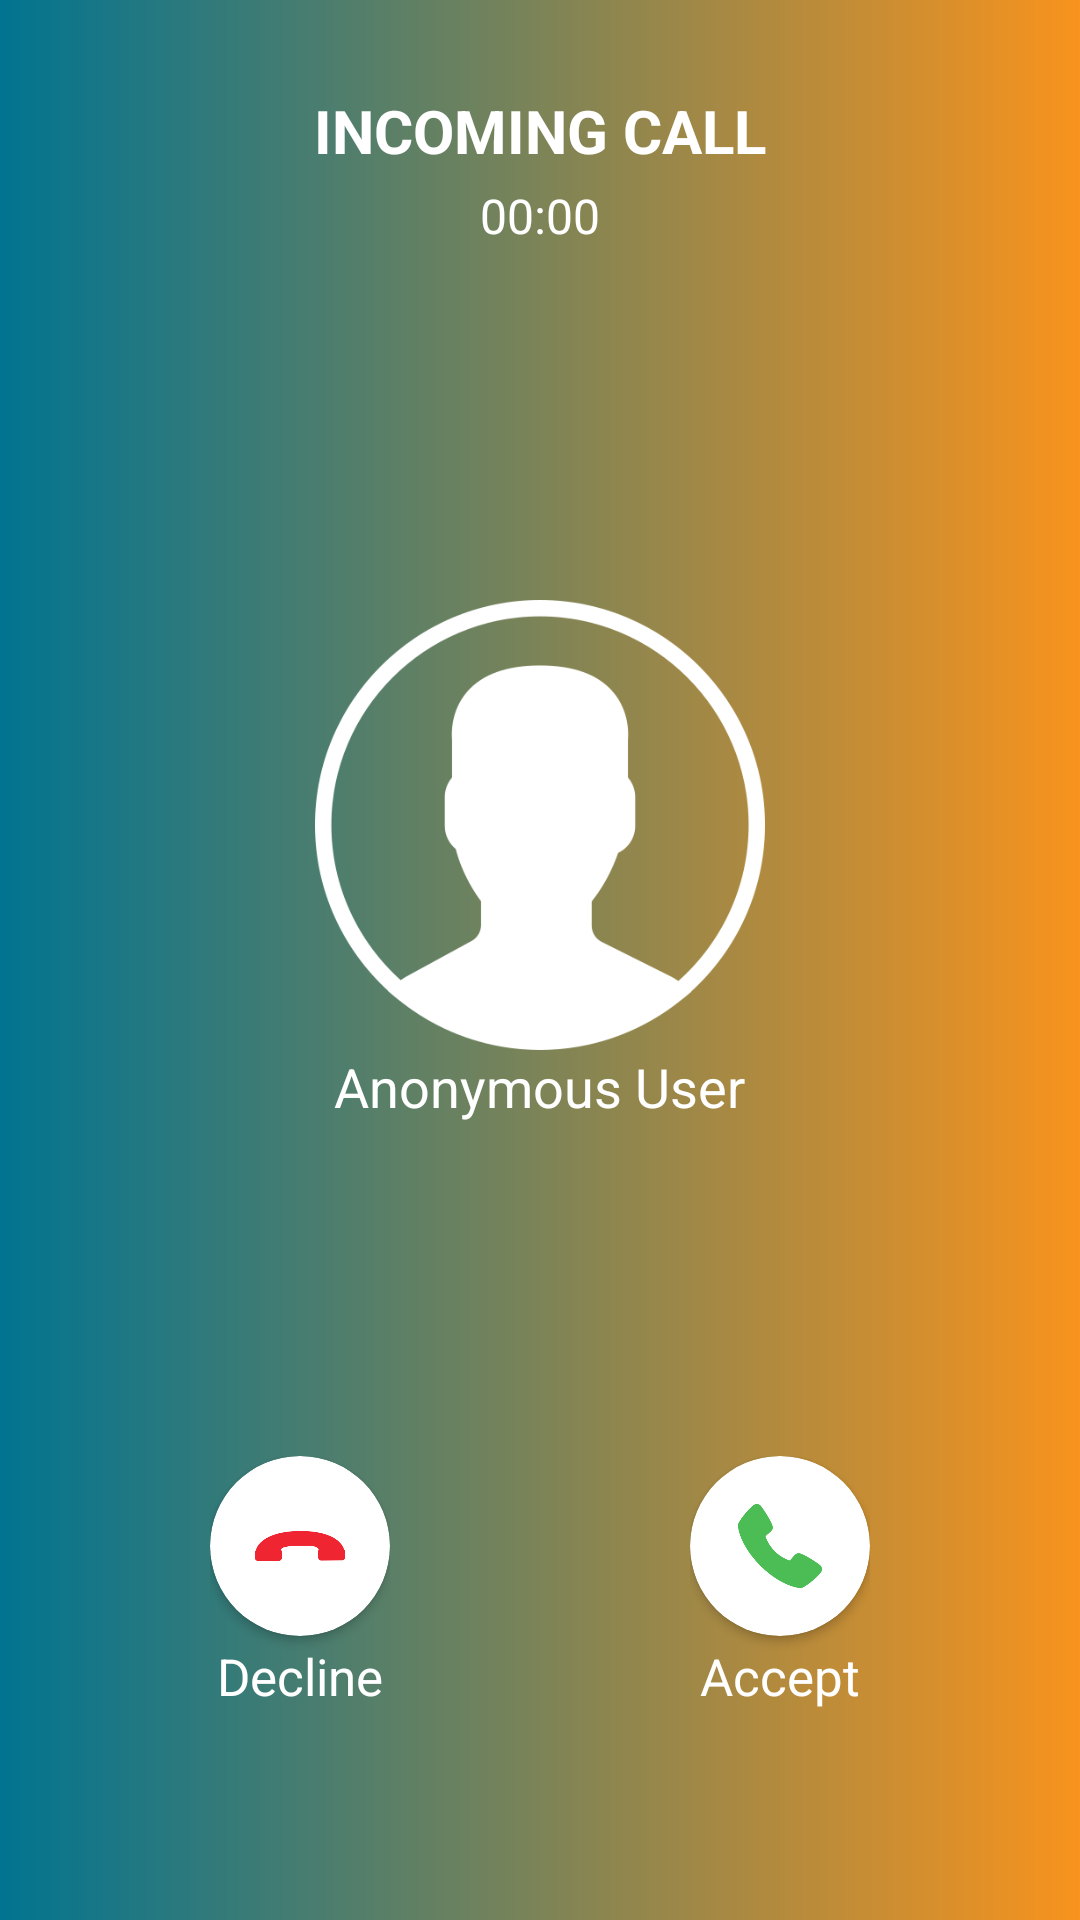

Screen size 1080w x 1920h. Icon name, then its box in pixels as [x1,y1,x2,y2]:
call down: [255,1531,345,1561]
call up: [738,1504,822,1588]
